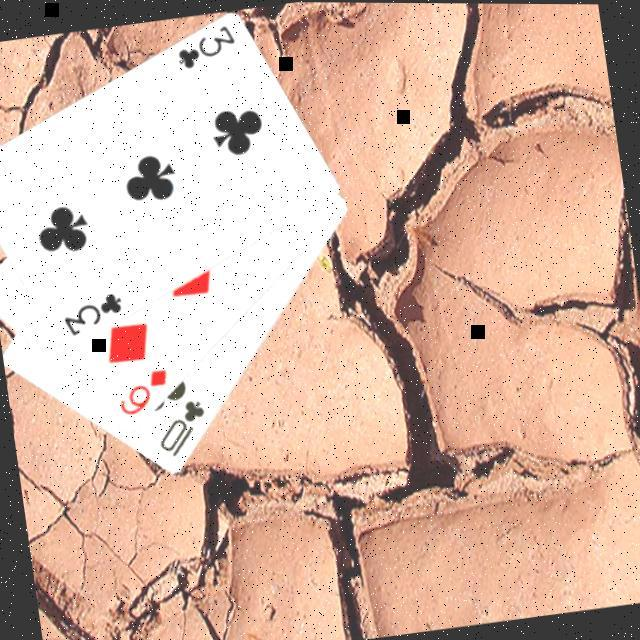10C: (149, 397, 213, 464)
3C: (55, 290, 128, 344), (168, 22, 240, 76)
6D: (110, 367, 174, 423)
